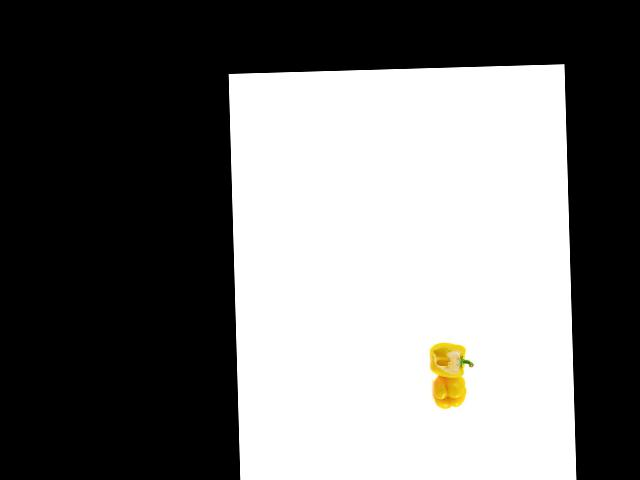bell_pepper: (421, 339, 474, 385)
